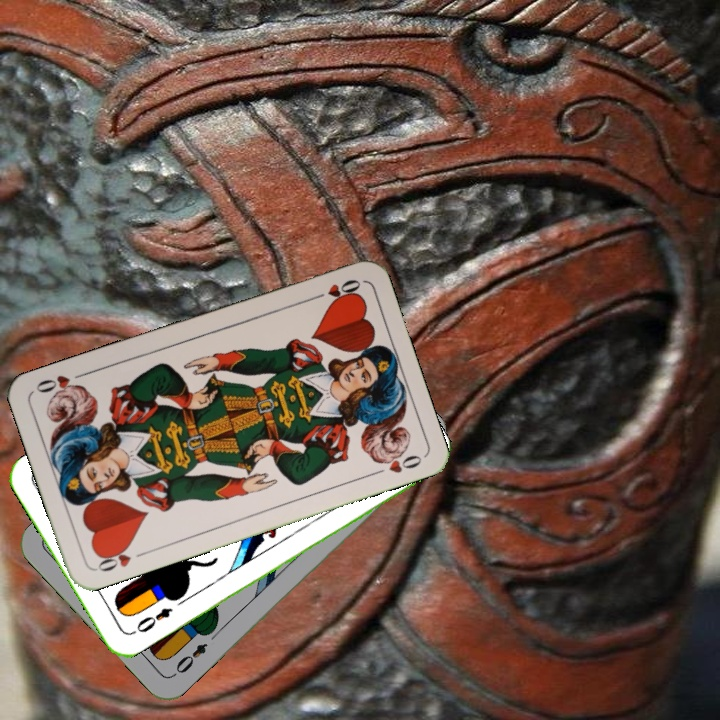EO: (169, 639, 210, 680), (132, 603, 176, 635)
HO: (92, 541, 149, 574), (306, 275, 364, 304)
